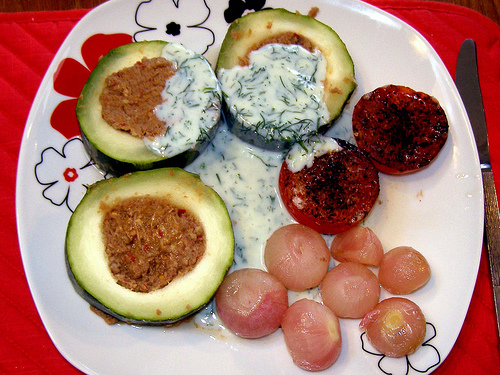onion: (215, 268, 289, 338), (319, 262, 380, 318), (378, 244, 434, 293)
